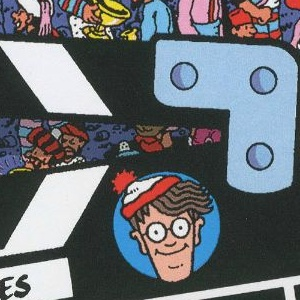Charlie: (84, 66, 216, 234)
